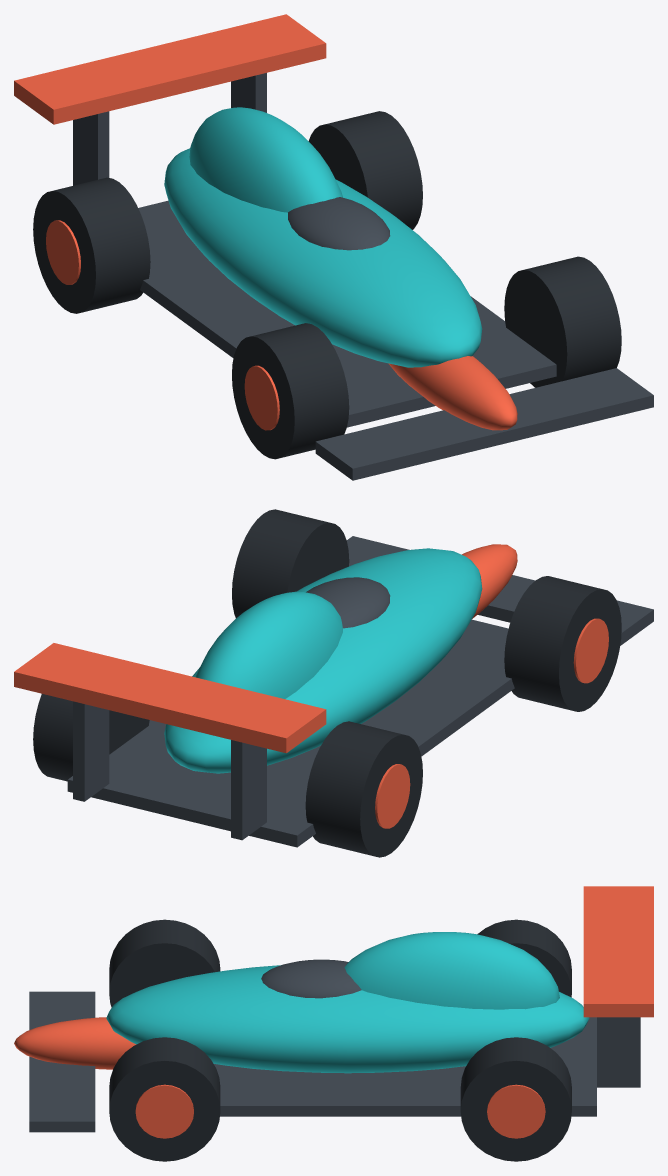
Rendered from placeholder.glb.
The picture shows the model from 3 angles, top to bottom: view 1: azimuth 30°, elevation 25°; view 2: azimuth 150°, elevation 25°; view 3: azimuth 270°, elevation 25°; orthographic projection. The views are drawn at different scales.
Visible parts, largest first — view 1: Tyre (×4), Monocoque, Floor, Rear wing, Front wing, Engine cover, Nose, Cockpit, Wing support (×2), Wheel hub (×2); view 2: Tyre (×4), Monocoque, Floor, Rear wing, Engine cover, Wing support (×2), Wheel hub (×2), Front wing, Cockpit, Nose; view 3: Monocoque, Tyre (×4), Floor, Engine cover, Rear wing, Front wing, Wheel hub (×2), Nose, Wing support, Cockpit.
Boxes of the visible parts, x1,y1,x2,y2 form: Tyre (×4): (33,111,621,459); Monocoque: (164,148,482,367); Floor: (138,200,556,427); Rear wing: (14,14,326,124); Front wing: (315,368,653,480); Engine cover: (189,107,342,212); Nose: (388,356,517,430); Cockpit: (288,197,390,250); Wing support (×2): (73,73,266,185); Wheel hub (×2): (46,220,279,430); Tyre (×4): (33,509,621,857); Monocoque: (164,548,482,773); Floor: (67,619,514,847); Rear wing: (14,643,326,753); Engine cover: (195,591,342,698); Wing support (×2): (73,701,266,840); Wheel hub (×2): (375,618,608,828); Front wing: (346,536,653,645); Cockpit: (306,577,390,628); Nose: (462,544,517,618); Monocoque: (106,965,589,1073); Tyre (×4): (109,919,571,1161); Floor: (214,1017,596,1116); Engine cover: (344,932,559,1009); Rear wing: (583,886,653,1017); Front wing: (29,991,95,1132); Wheel hub (×2): (135,1084,545,1138); Nose: (14,1017,136,1069); Wing support: (597,1017,640,1087); Cockpit: (261,959,361,998).
Bounding box in the file's own units: 2.31 × 1.18 × 4.37.
